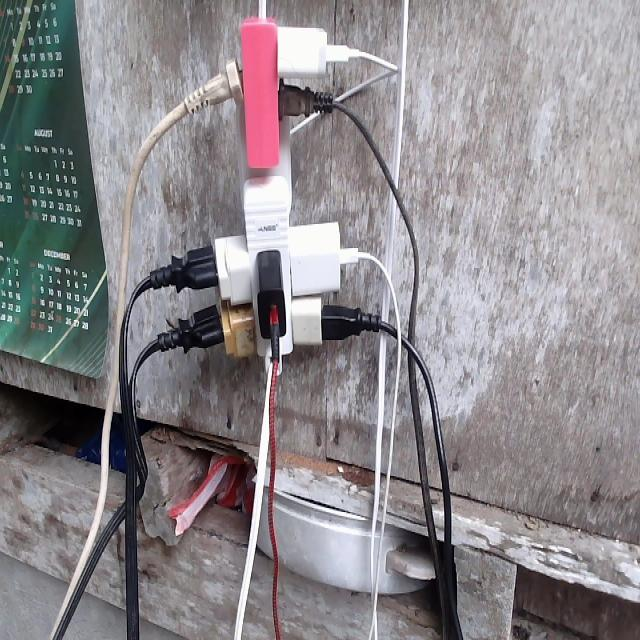-: (141, 11, 413, 376)
